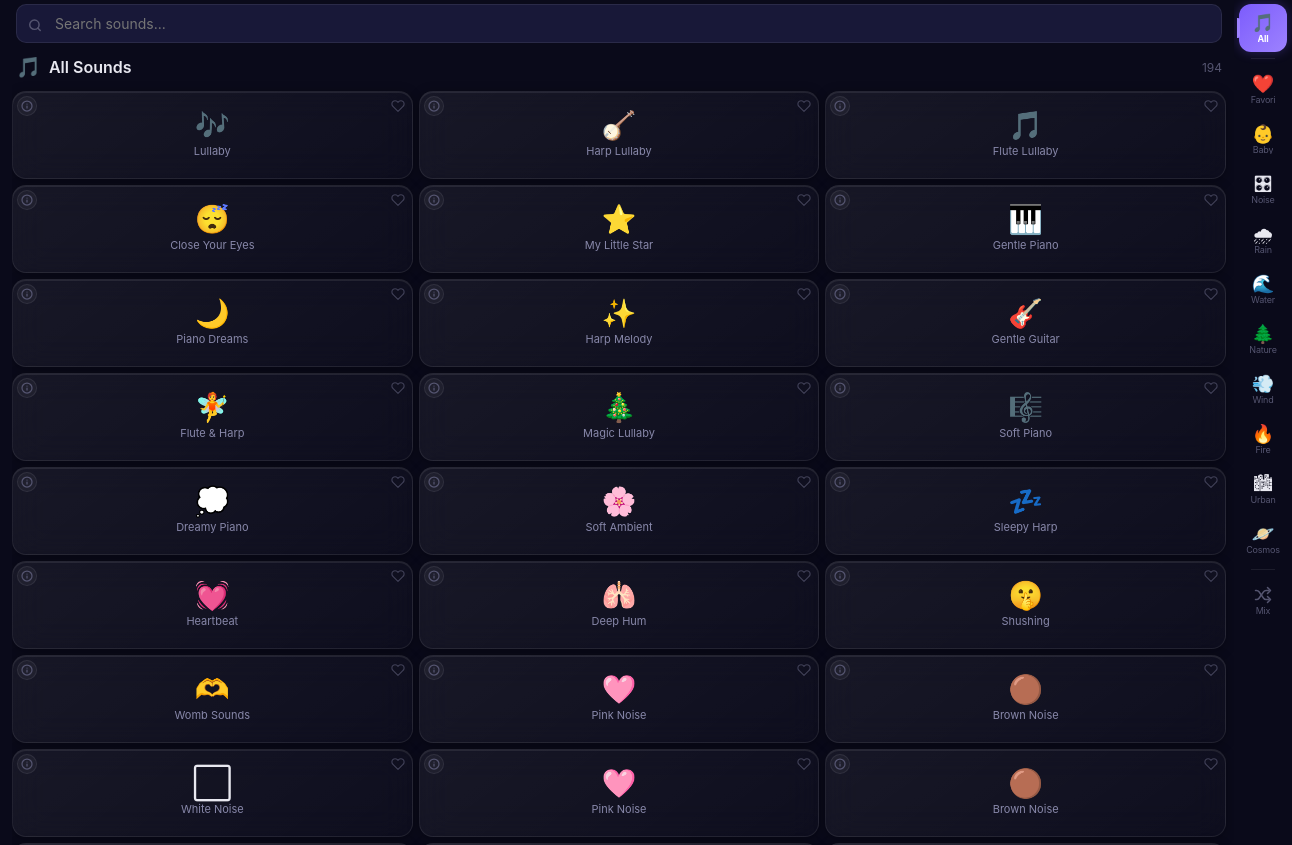
Test: SoundGrid › should filter cosmos sounds correctly
Step 1. Click the text "Cosmos" → point(1263, 549), box 1246,544 -> 1280,554
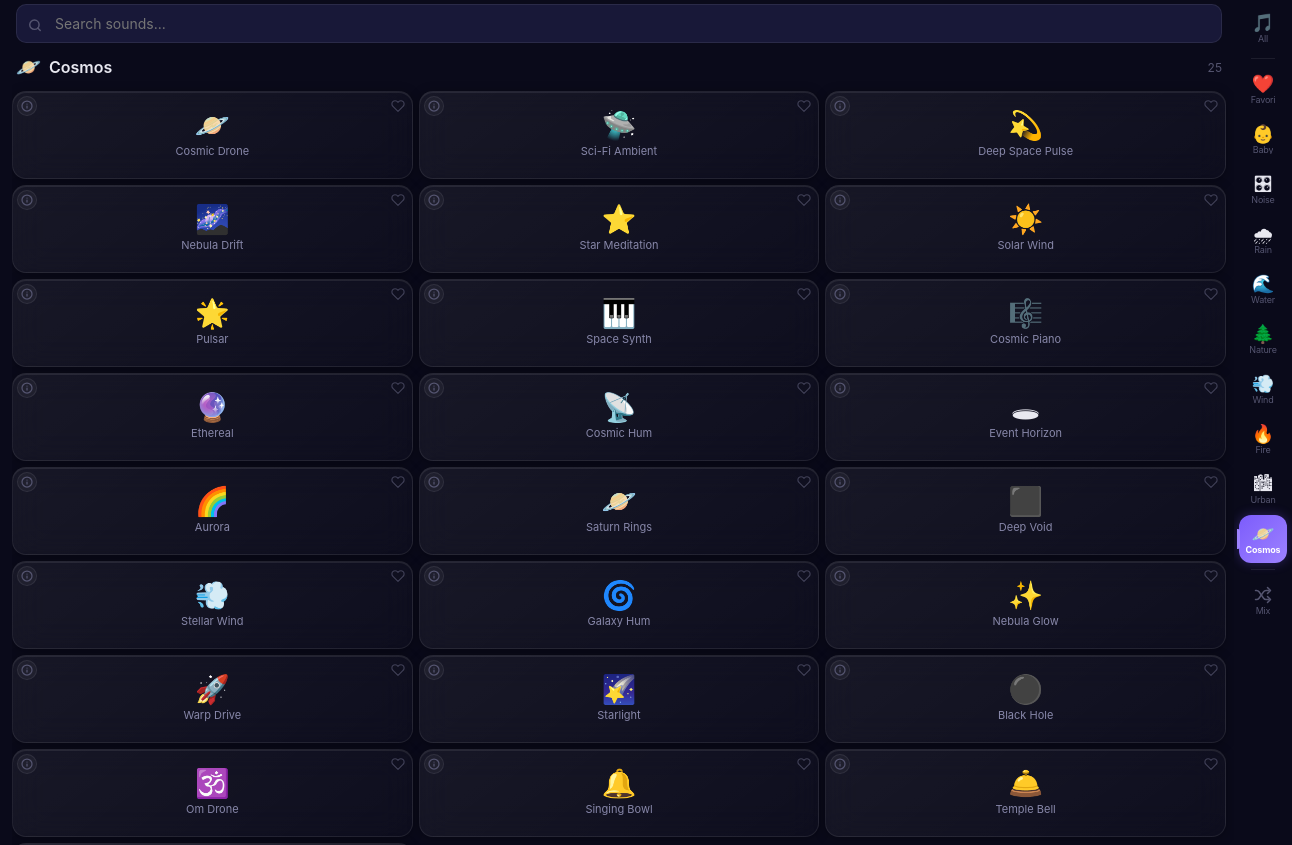
Now the text "Cosmic Drone" is shown, box 174,145 -> 251,159
Now the text "Solar Wind" is shown, box 995,239 -> 1056,253
